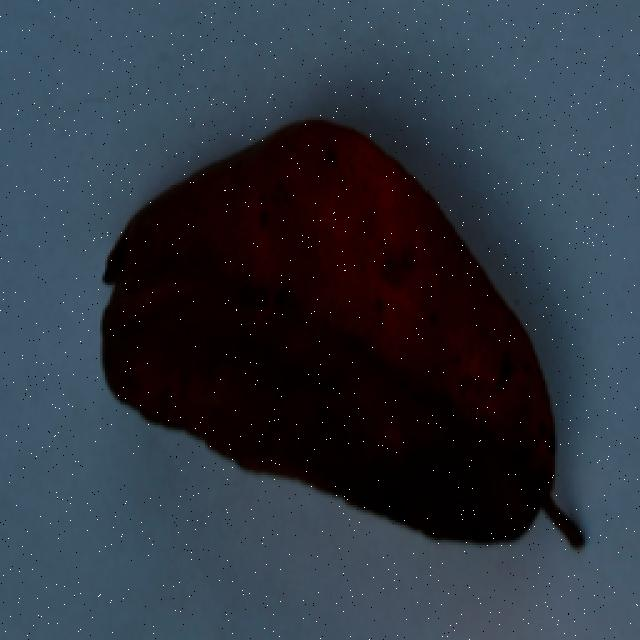blackspot: (96, 112, 586, 580)
